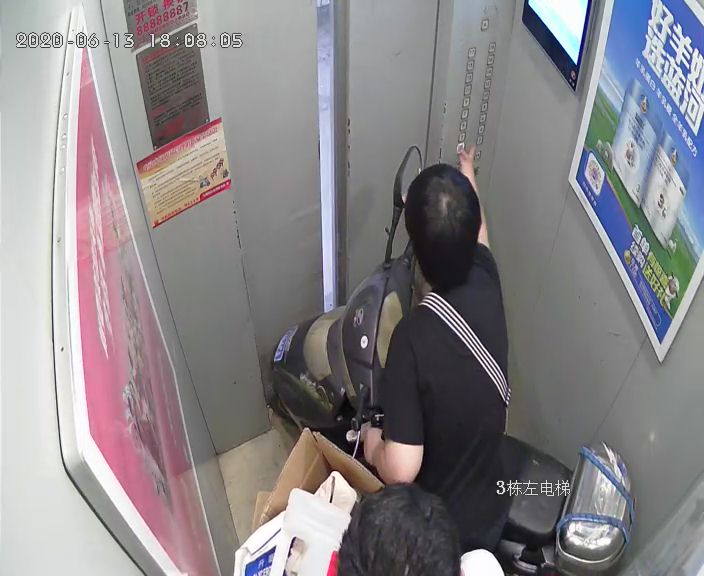Electric-bicycle: (264, 146, 633, 573)
